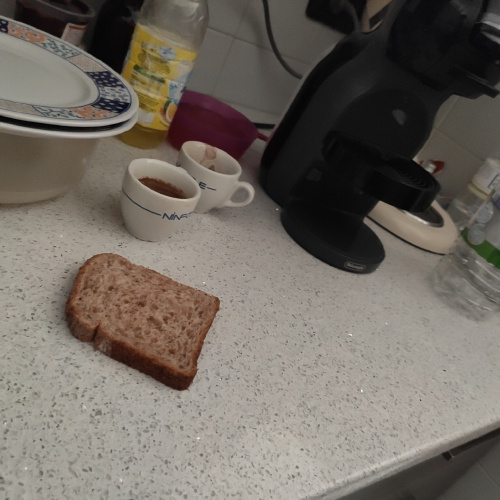pane: (60, 252, 224, 390)
